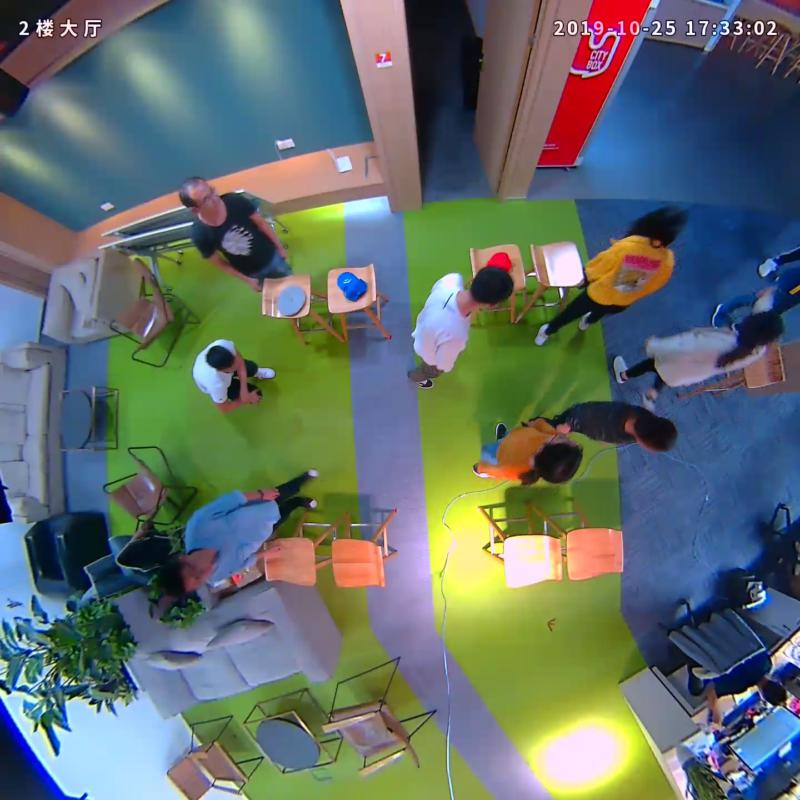head: (154, 546, 216, 609), (624, 405, 687, 462), (530, 435, 594, 490), (633, 200, 694, 250), (458, 265, 518, 312), (729, 302, 781, 356), (170, 172, 225, 216), (199, 341, 240, 380)
